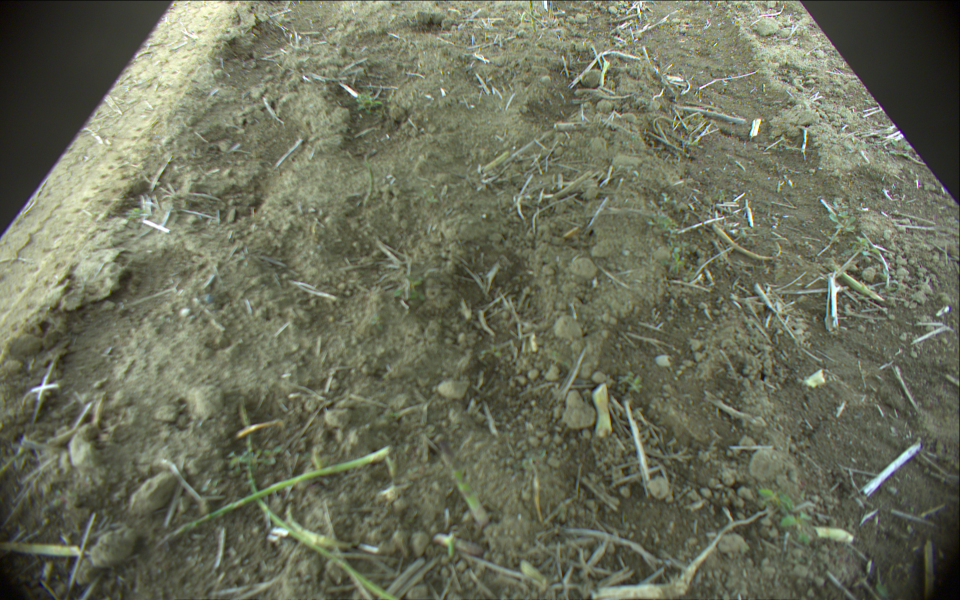aspa: (242, 439, 421, 600), (155, 445, 396, 543), (527, 1, 539, 29)
